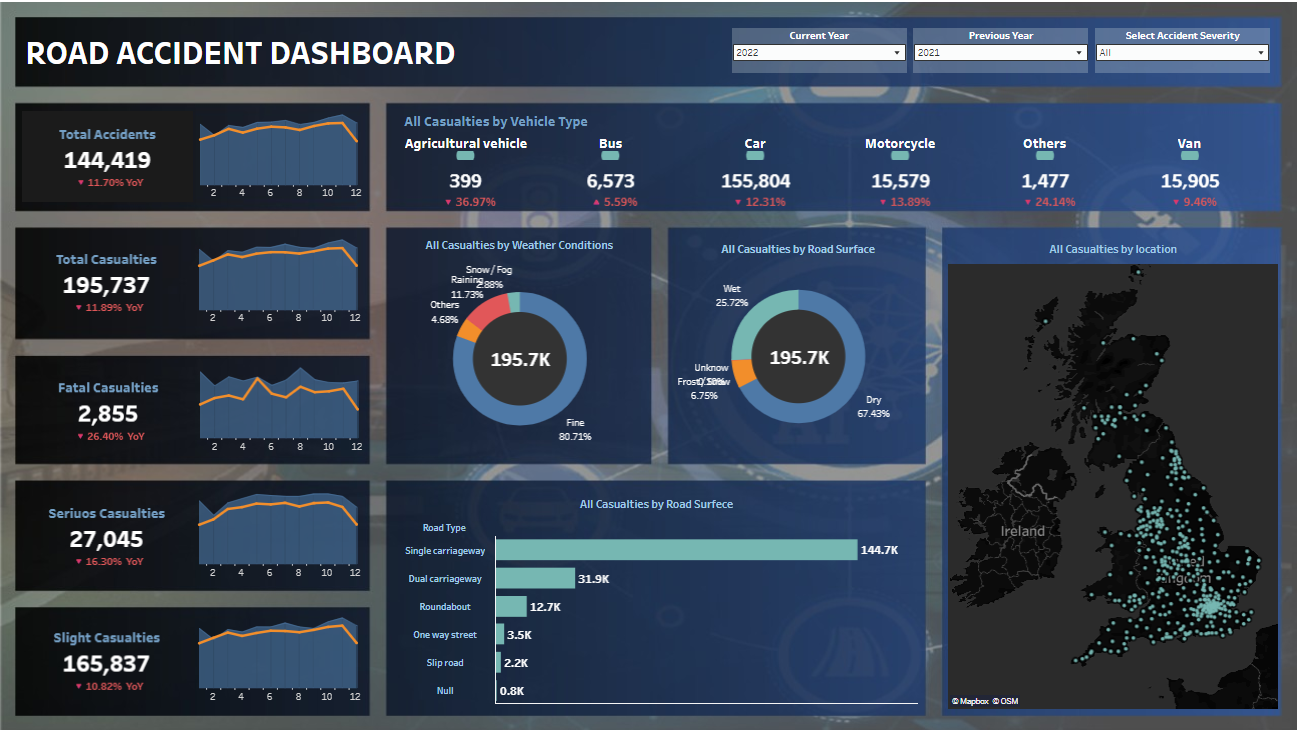

What the dashboard file says about the page in this screenshot:
{"tool":"powerbi","page":{"name":"Página 1","canvas":[1920,1080],"ordinal":0},"visuals":[{"type":"card","title":"Total CY Casualties","fields":{"Values":["Measures (2).CY casualties"]},"box":[21.7,141.2,347.5,126.7],"z":0},{"type":"card","fields":{"Values":["Measures (2).YoY Casualties"]},"box":[110.4,255.2,139.3,54.3],"z":1000},{"type":"card","title":"Total CY Accidents","fields":{"Values":["Measures (2).CY Accidents Counts"]},"box":[396.5,138.1,347.5,126.7],"z":2000},{"type":"card","fields":{"Values":["Measures (2).YoY Accidents"]},"box":[485.2,252.1,139.3,54.3],"z":3000},{"type":"card","title":"CY Fatal Casualties","fields":{"Values":["Measures (2).CY casualties"]},"box":[783.1,139.6,347.5,126.7],"z":4000},{"type":"card","fields":{"Values":["Measures (2).YoY Casualties"]},"box":[871.8,253.6,139.3,54.3],"z":5000},{"type":"card","title":"CY Serious Casualties","fields":{"Values":["Measures (2).CY casualties"]},"box":[1168.5,139.7,347.5,126.7],"z":6000},{"type":"card","fields":{"Values":["Measures (2).YoY Casualties"]},"box":[1257.2,253.7,139.3,54.3],"z":7000},{"type":"card","title":"CY Slight Casualties","fields":{"Values":["Measures (2).CY casualties"]},"box":[1545.7,139.8,347.5,126.7],"z":8000},{"type":"card","fields":{"Values":["Measures (2).YoY Casualties"]},"box":[1634.4,253.8,139.3,54.3],"z":9000},{"type":"textbox","box":[21.7,14.5,937.4,99.5],"z":10000},{"type":"multiRowCard","fields":{"Values":["Data.Vehicle_Type (grupos)","Measures (2).CY casualties"]},"box":[181,412.6,204.5,557.4],"z":11000},{"type":"image","box":[70.6,845.1,110.4,88.7],"z":12000},{"type":"image","box":[85.1,589.9,95.9,79.6],"z":13000},{"type":"image","box":[65.1,673.2,124.9,92.3],"z":14000},{"type":"image","box":[61.5,416.2,128.5,86.9],"z":15000},{"type":"image","box":[72.4,765.5,110.4,76],"z":16000},{"type":"image","box":[72.4,503.1,132.1,103.2],"z":17000},{"type":"textbox","box":[47.1,354.7,309.5,45.2],"z":18000},{"type":"areaChart","title":"CY Casualties vs PY Casualties Monthly Trend","fields":{"Category":["Calendar.Month"],"Y":["Sum(Data.Number_of_Casualties)"],"Series":["Calendar.Date.Variación.Jerarquía de fechas.Año"]},"box":[396.3,333,669.6,340.2],"z":19000},{"type":"donutChart","title":"Casualties por Urban / Rural","fields":{"Category":["Data.Urban_or_Rural_Area"],"Y":["Measures (2).CY casualties"]},"box":[1096.7,333,360.1,340.2],"z":20000},{"type":"donutChart","title":"Casualties by light conditions","fields":{"Y":["Measures (2).CY casualties"],"Category":["Data.Light_Conditions (grupos) 2"]},"box":[1096.7,704,360.1,340.2],"z":21000},{"type":"barChart","title":"Casualties by Road Type","fields":{"Category":["Data.Road_Type"],"Y":["Measures (2).CY casualties"]},"box":[396.3,704,669.6,340.2],"z":22000},{"type":"map","title":"Casualty by Location","fields":{"Y":["Data.Latitude"],"X":["Data.Longitude"],"Category":["Data.Local_Authority_(District)"]},"box":[1485.7,333,407.2,711.2],"z":23000},{"type":"slicer","fields":{"Values":["Data.Weather_Conditions (grupos)"]},"box":[1596.1,25.3,284.1,81.4],"z":24000},{"type":"slicer","fields":{"Values":["Data.Road_Surface_Conditions (grupos)"]},"box":[1312,25.3,284.1,81.4],"z":25000}]}

Visuals, with their boxes in screenshot pixels (x1, y1, x2, y2), scaled from the page's 1920x1080 canvas onto the 1297x730 screenshot:
"Total CY Casualties" card: pyautogui.locateOnScreen(15, 95, 249, 181)
card - Measures (2).YoY Casualties: pyautogui.locateOnScreen(75, 172, 169, 209)
"Total CY Accidents" card: pyautogui.locateOnScreen(268, 93, 503, 179)
card - Measures (2).YoY Accidents: pyautogui.locateOnScreen(328, 170, 422, 207)
"CY Fatal Casualties" card: pyautogui.locateOnScreen(529, 94, 764, 180)
card - Measures (2).YoY Casualties: pyautogui.locateOnScreen(589, 171, 683, 208)
"CY Serious Casualties" card: pyautogui.locateOnScreen(789, 94, 1024, 180)
card - Measures (2).YoY Casualties: pyautogui.locateOnScreen(849, 171, 943, 208)
"CY Slight Casualties" card: pyautogui.locateOnScreen(1044, 94, 1279, 180)
card - Measures (2).YoY Casualties: pyautogui.locateOnScreen(1104, 172, 1198, 208)
textbox: pyautogui.locateOnScreen(15, 10, 648, 77)
multiRowCard - Data.Vehicle_Type (grupos) x Measures (2).CY casualties: pyautogui.locateOnScreen(122, 279, 260, 656)
image: pyautogui.locateOnScreen(48, 571, 122, 631)
image: pyautogui.locateOnScreen(57, 399, 122, 453)
image: pyautogui.locateOnScreen(44, 455, 128, 517)
image: pyautogui.locateOnScreen(42, 281, 128, 340)
image: pyautogui.locateOnScreen(49, 517, 123, 569)
image: pyautogui.locateOnScreen(49, 340, 138, 410)
textbox: pyautogui.locateOnScreen(32, 240, 241, 270)
"CY Casualties vs PY Casualties Monthly Trend" areaChart: pyautogui.locateOnScreen(268, 225, 720, 455)
"Casualties por Urban / Rural" donutChart: pyautogui.locateOnScreen(741, 225, 984, 455)
"Casualties by light conditions" donutChart: pyautogui.locateOnScreen(741, 476, 984, 706)
"Casualties by Road Type" barChart: pyautogui.locateOnScreen(268, 476, 720, 706)
"Casualty by Location" map: pyautogui.locateOnScreen(1004, 225, 1279, 706)
slicer - Data.Weather_Conditions (grupos): pyautogui.locateOnScreen(1078, 17, 1270, 72)
slicer - Data.Road_Surface_Conditions (grupos): pyautogui.locateOnScreen(886, 17, 1078, 72)
